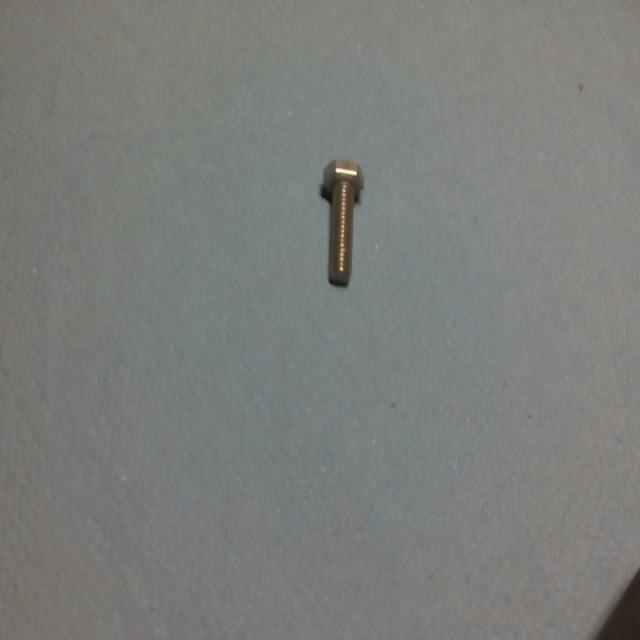Bolt: (317, 153, 375, 290)
